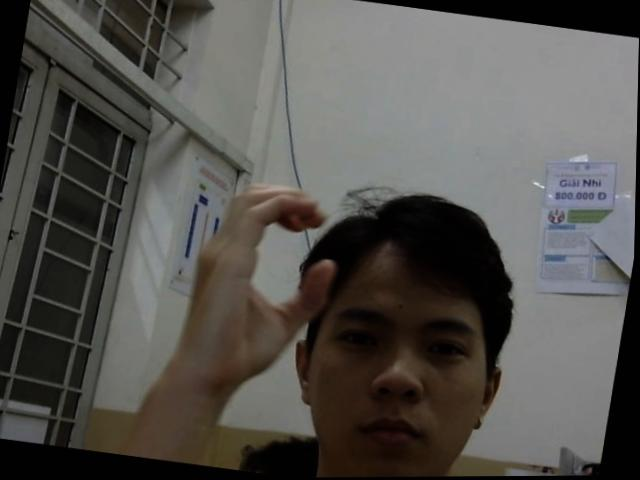C: (176, 172, 349, 404)
